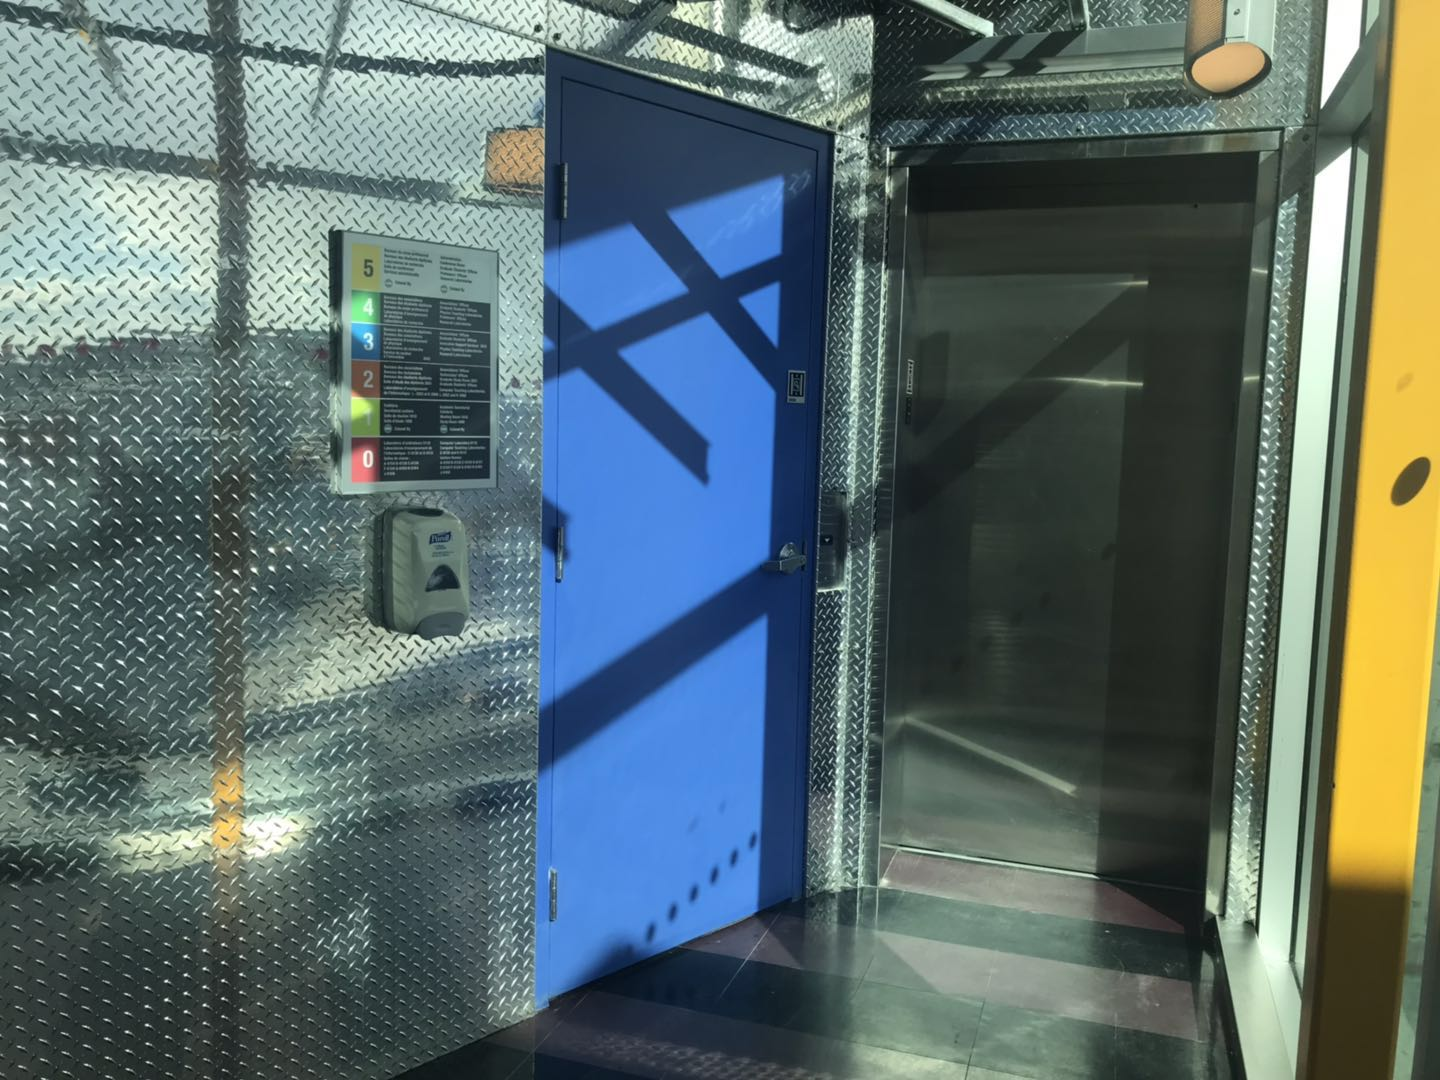door: (859, 128, 1284, 923), (535, 48, 838, 1014)
sign: (338, 228, 503, 496)
